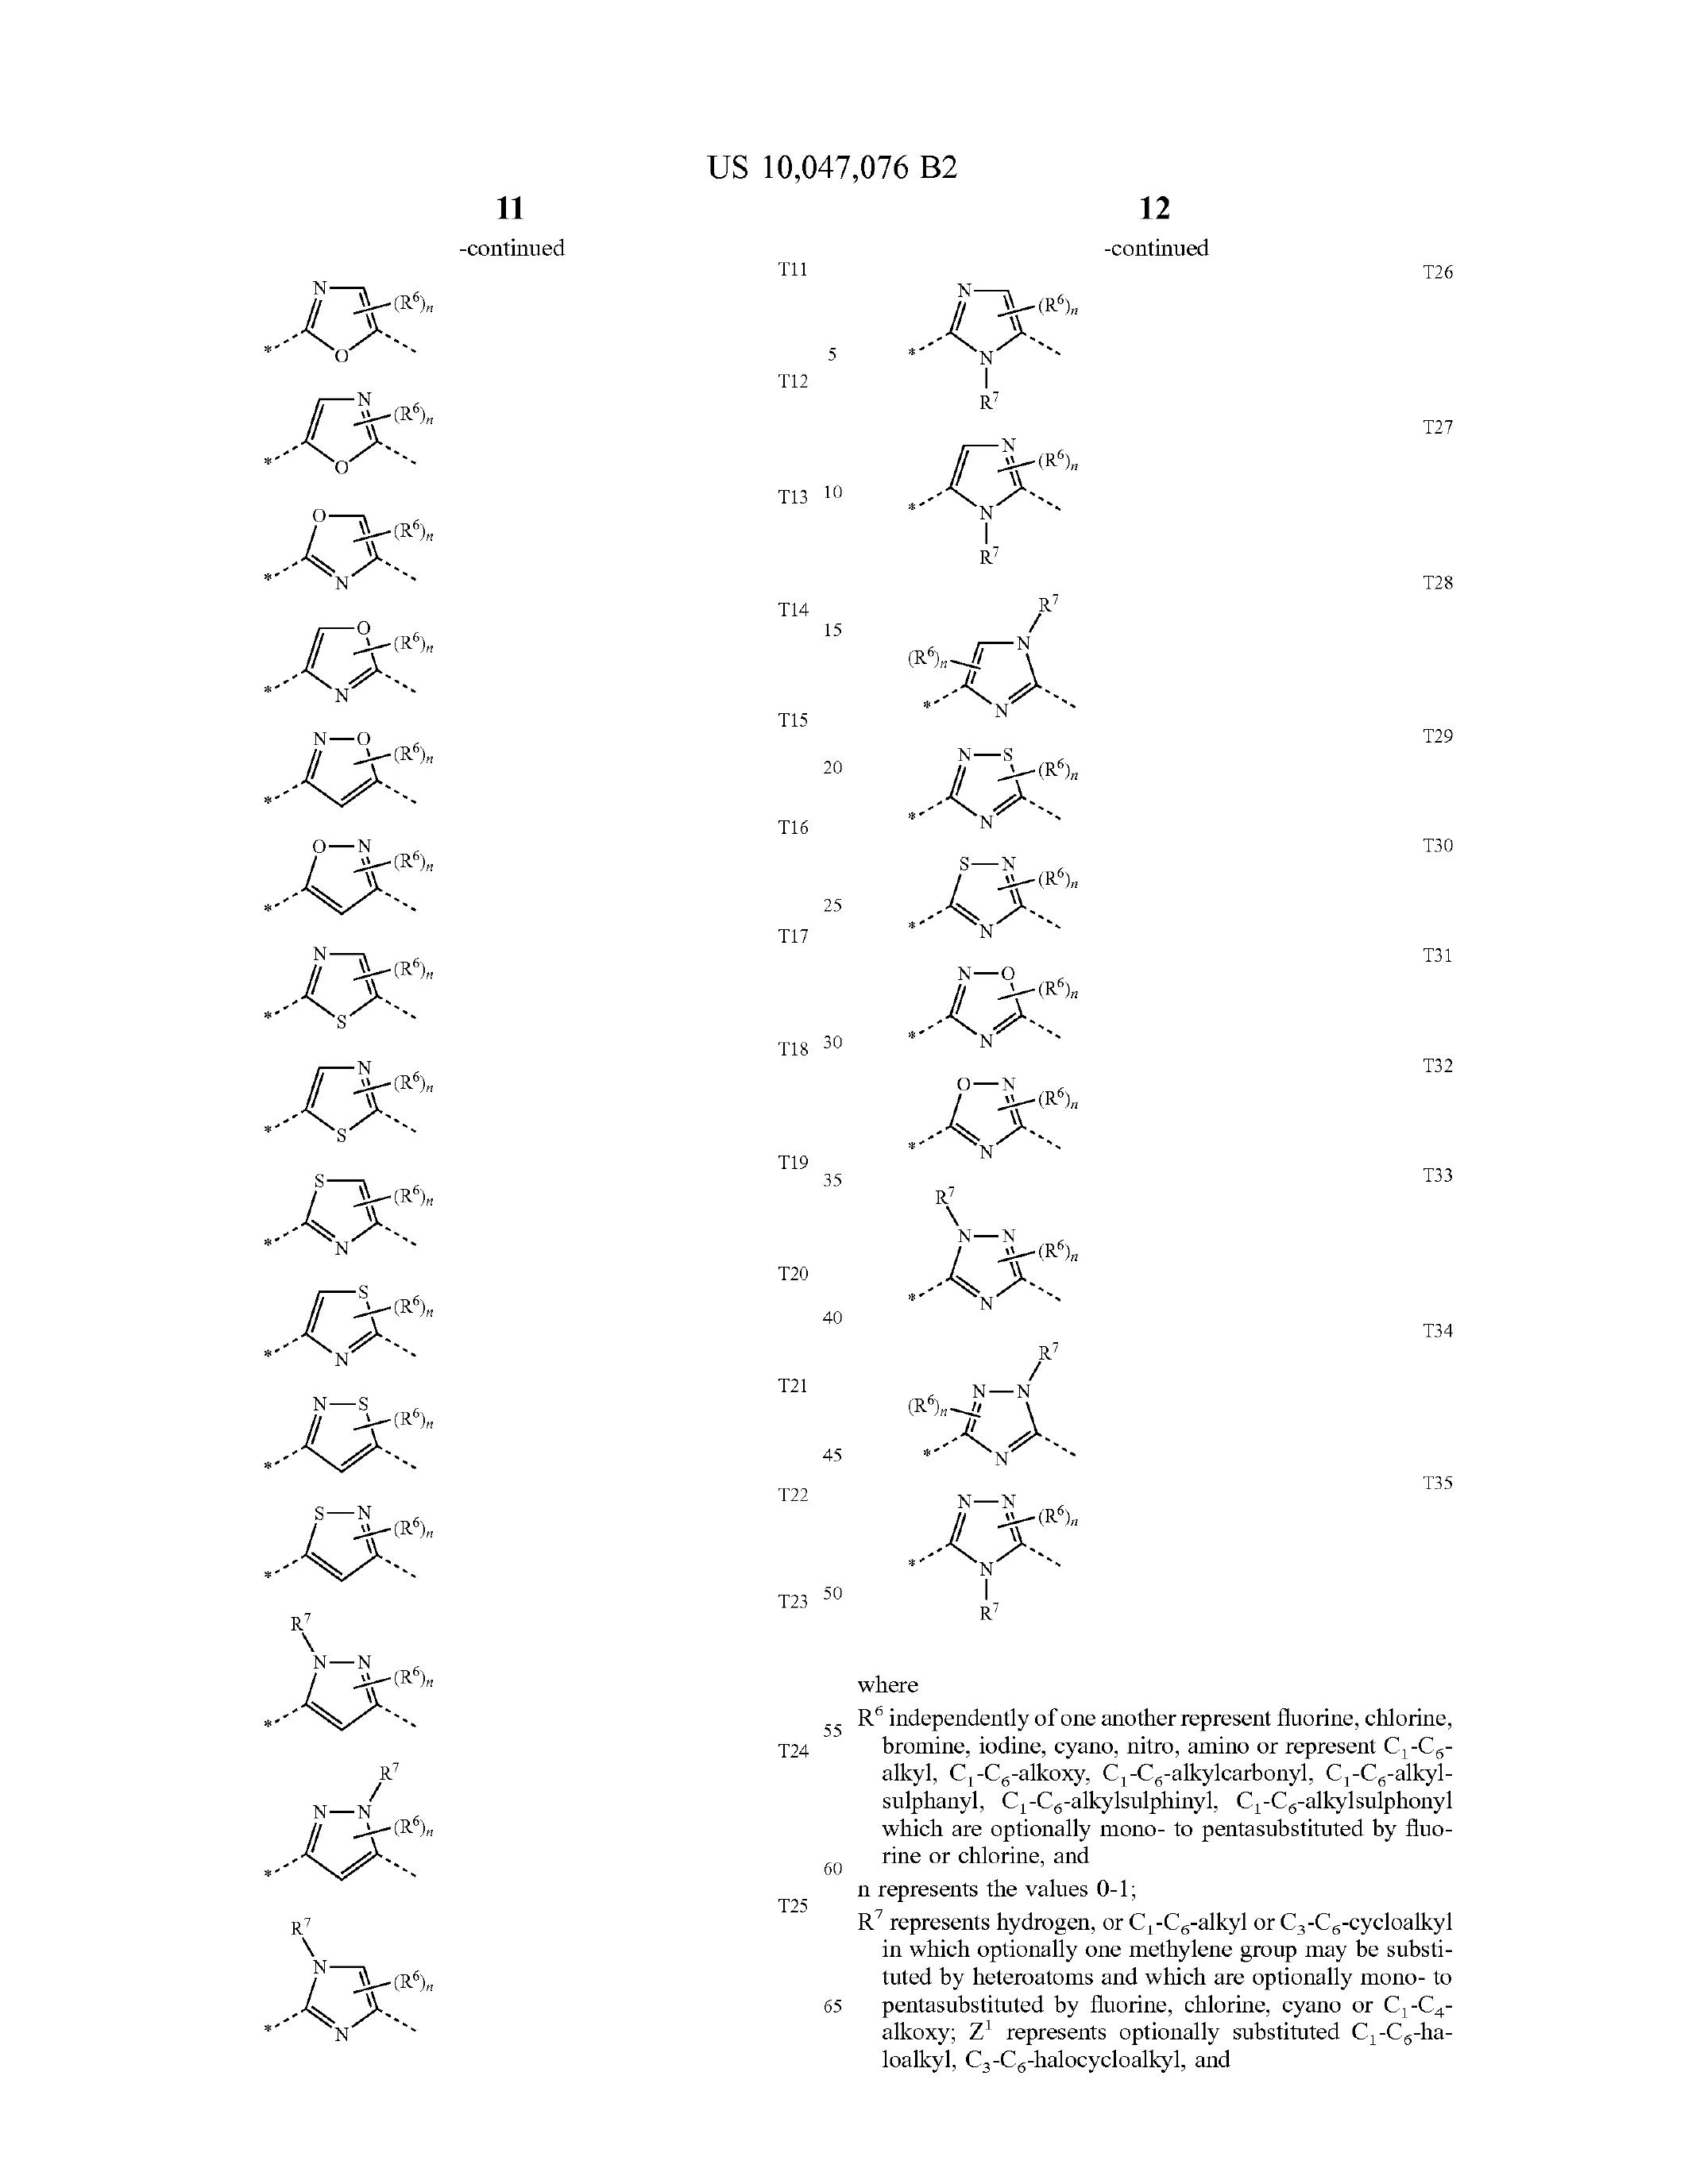substitutes: (832, 1643, 1463, 2101), (878, 1319, 1149, 1649)
